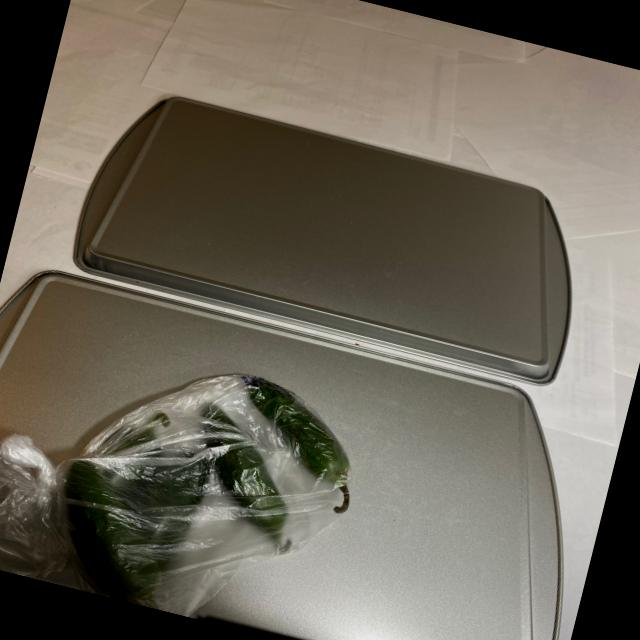chilli: (21, 332, 371, 640)
